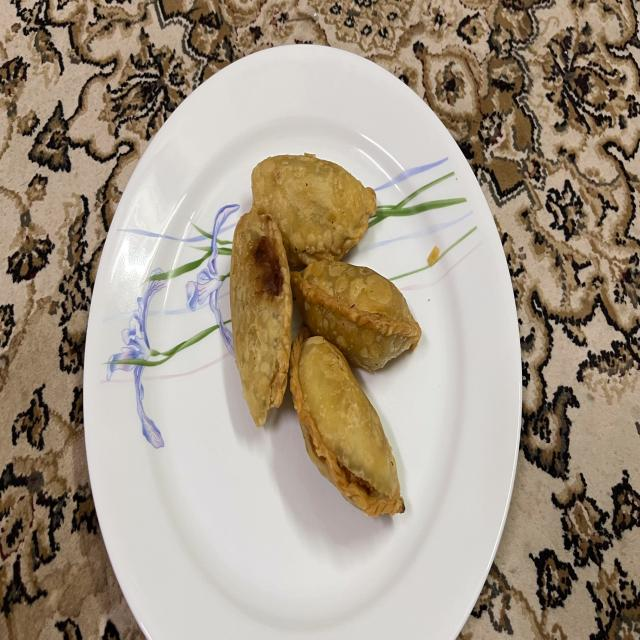karipap: (290, 327, 405, 518), (291, 260, 421, 371), (251, 153, 376, 267), (230, 207, 292, 427)
